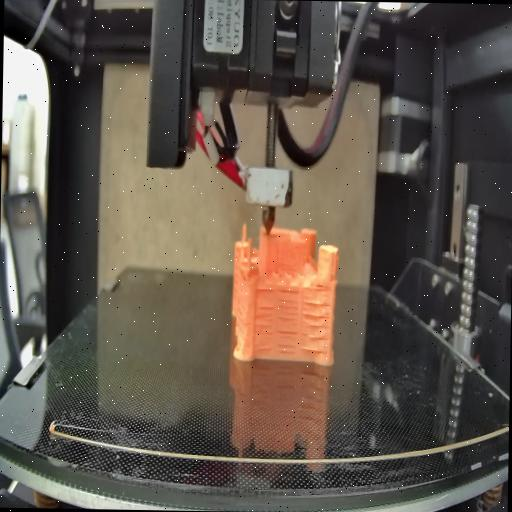cracks: (302, 300, 330, 356), (252, 303, 276, 352), (276, 288, 300, 320), (276, 331, 298, 355), (314, 275, 332, 291), (256, 284, 278, 295)
